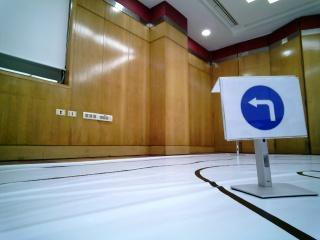left: (229, 78, 302, 138)
